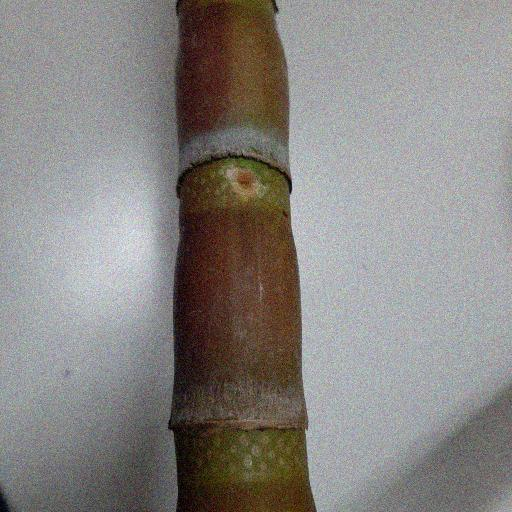Damage_Bud: (224, 164, 263, 198)
